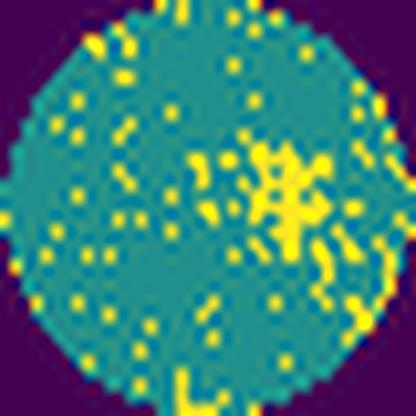Loc: (245, 144, 337, 268)
